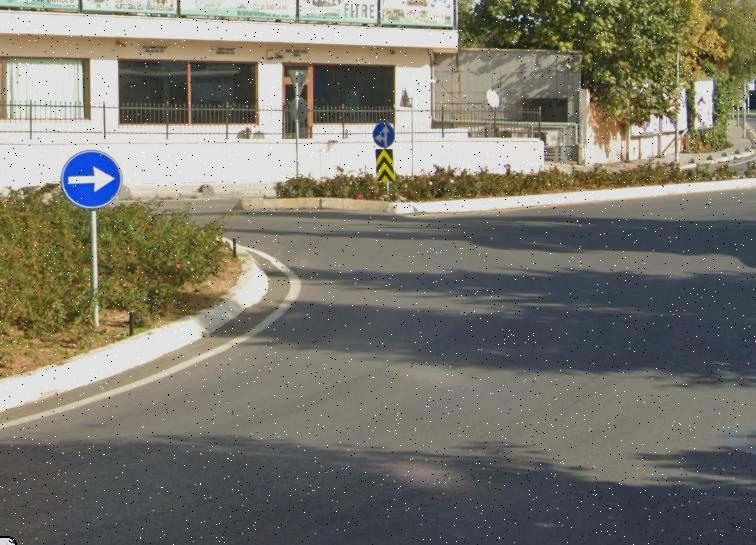turnright: (63, 149, 123, 205)
